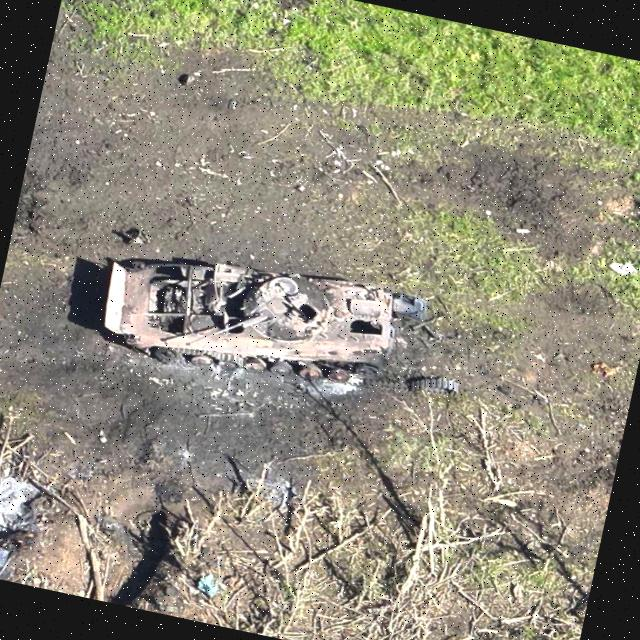Destroyed: (90, 225, 407, 410)
